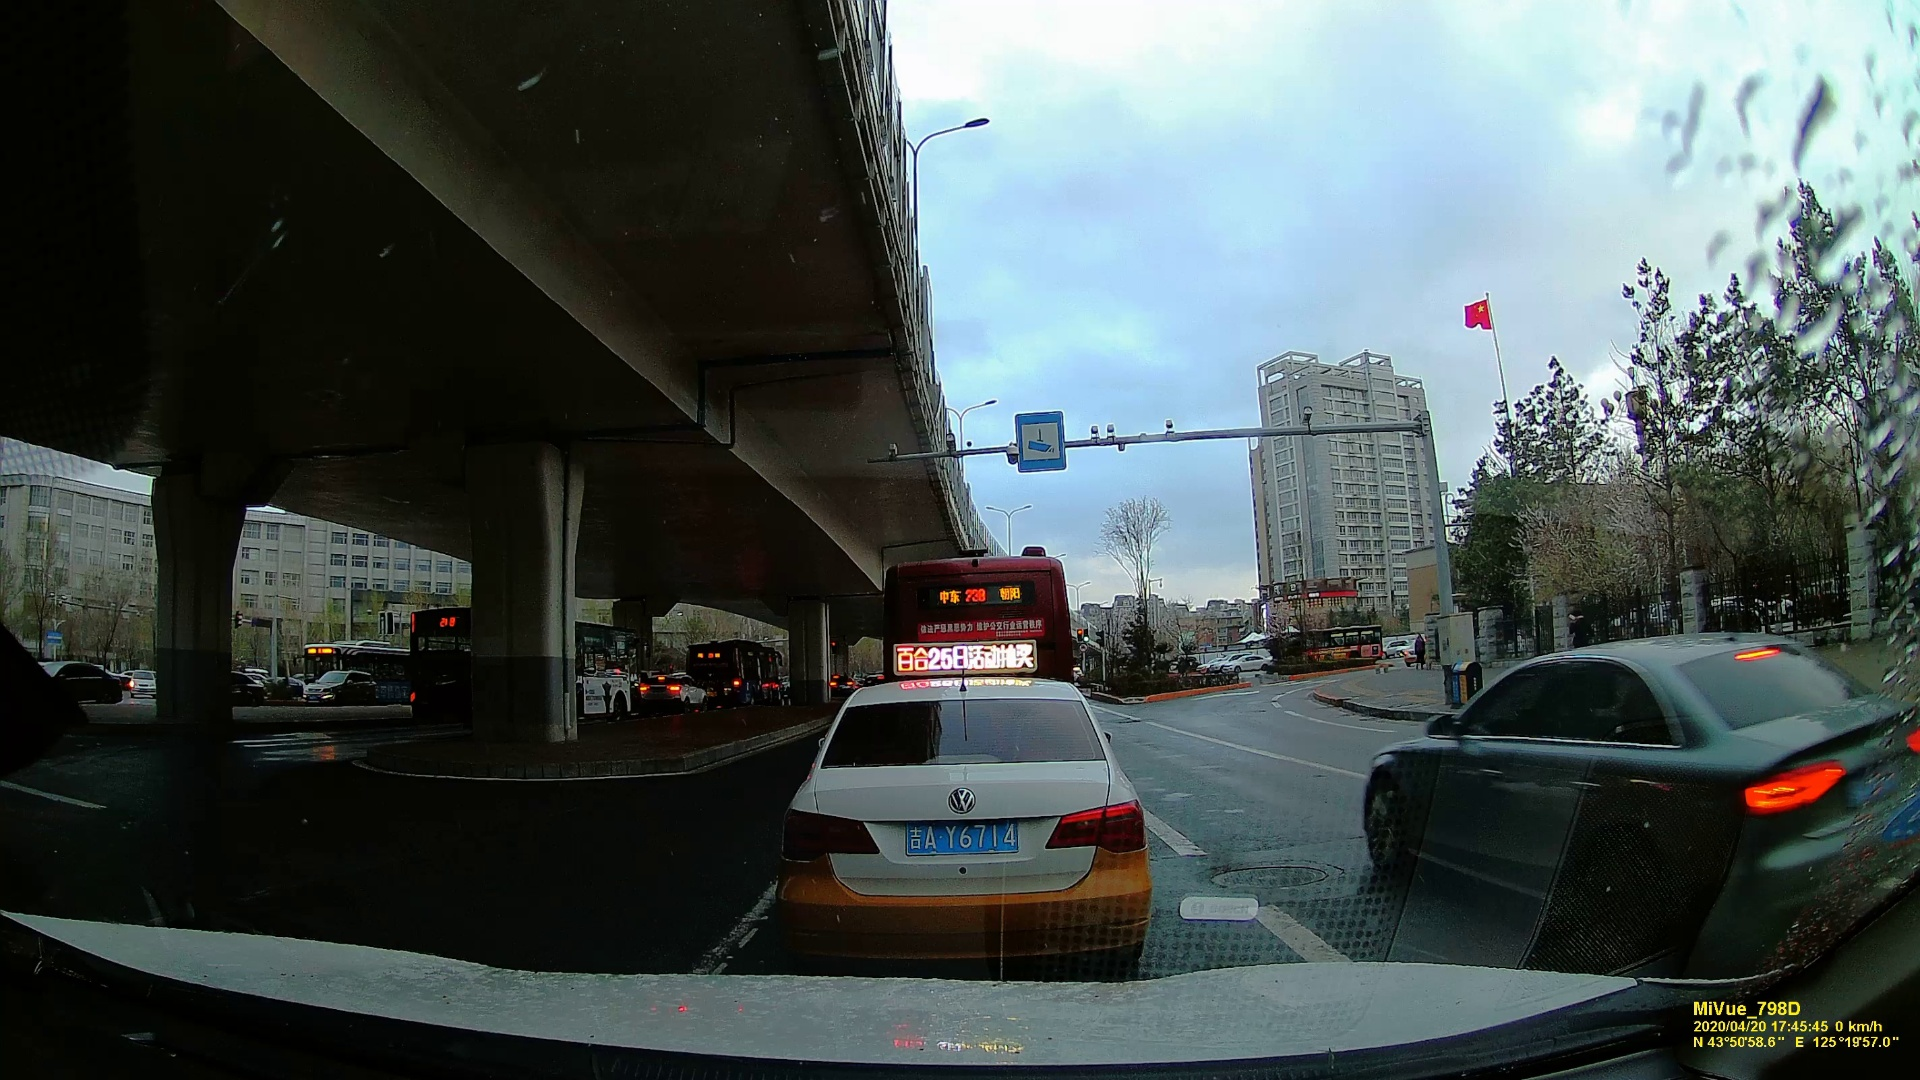bus: (410, 608, 632, 731), (890, 553, 1064, 694)
traffic_sign: (1011, 409, 1069, 471)
vehicle: (1342, 647, 1917, 948), (778, 666, 1160, 944), (32, 654, 117, 708), (121, 670, 152, 694)
